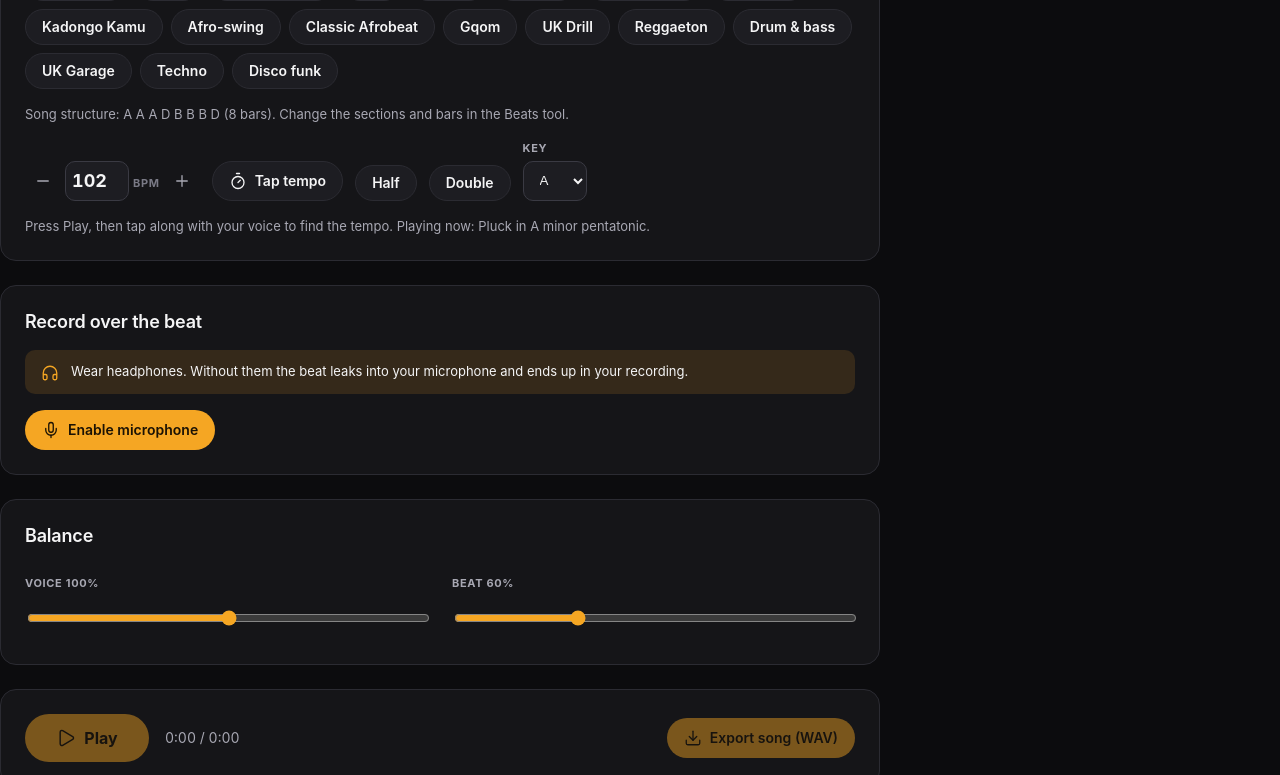
Test: Record over the beat: setup › says so when the browser cannot capture audio accurately
(page scrolled)
Click the button "Enable microphone".
click(120, 430)  # box [25,410,215,450]
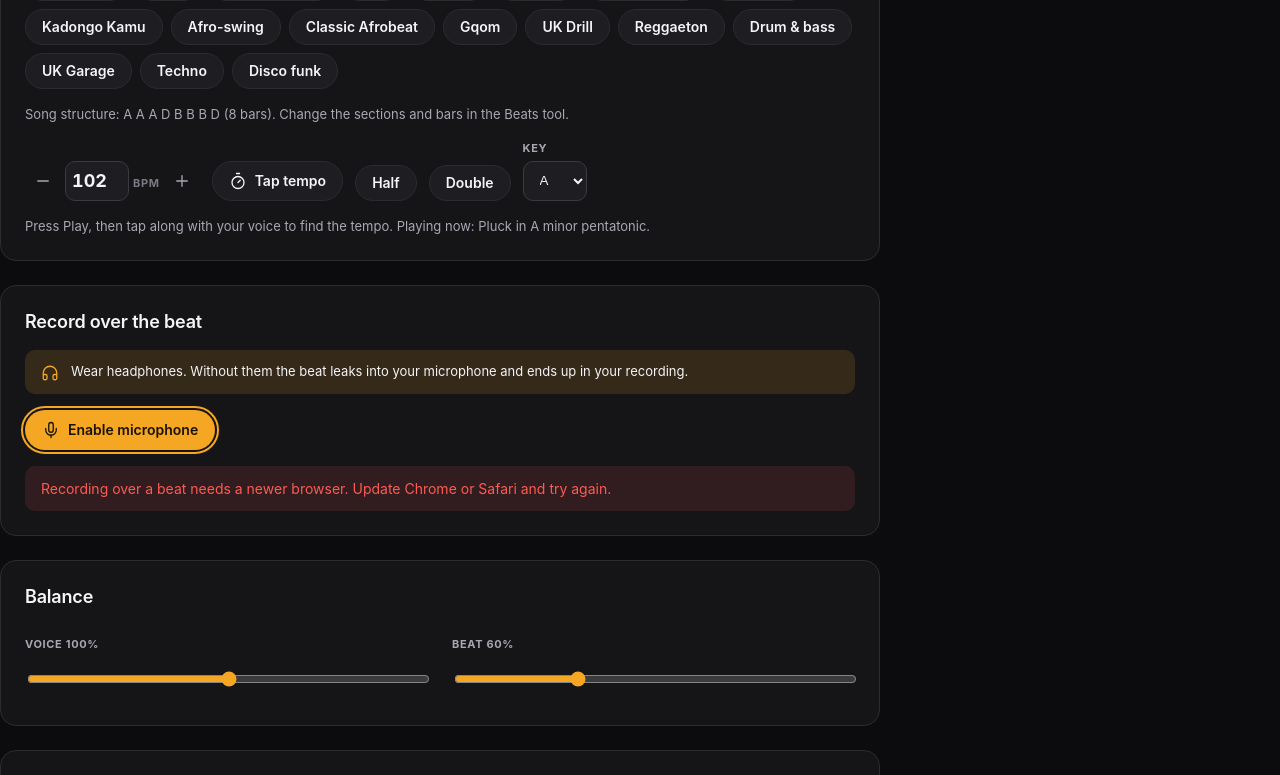
Expected: the message shows "newer browser", [41,480,611,497]
